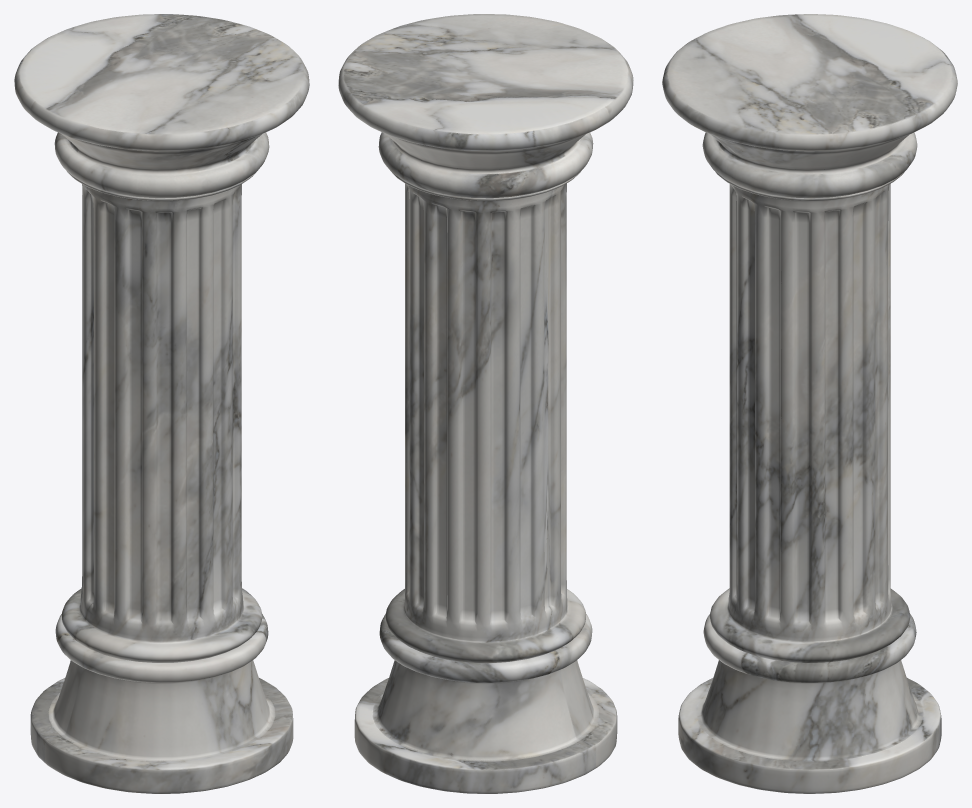
File: marble_pillar.glb
The picture shows the model from 3 angles, left to right: view 1: azimuth 30°, elevation 25°; view 2: azimuth 150°, elevation 25°; view 3: azimuth 270°, elevation 25°; orthographic projection.
Visible parts, largest first — view 1: Object_2; view 2: Object_2; view 3: Object_2.
Part boxes in pixels (box(x1,y1,x2,y2)): Object_2: box(14, 14, 309, 793); Object_2: box(338, 14, 633, 793); Object_2: box(662, 14, 957, 793).
Size of the model in its own units: 20.2 by 50.24 by 20.22.
1 material, 1 textured.
